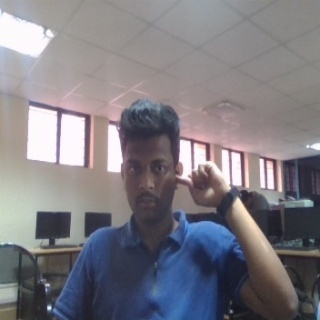Deaf: (175, 160, 230, 208)
Face: (117, 96, 185, 228)
